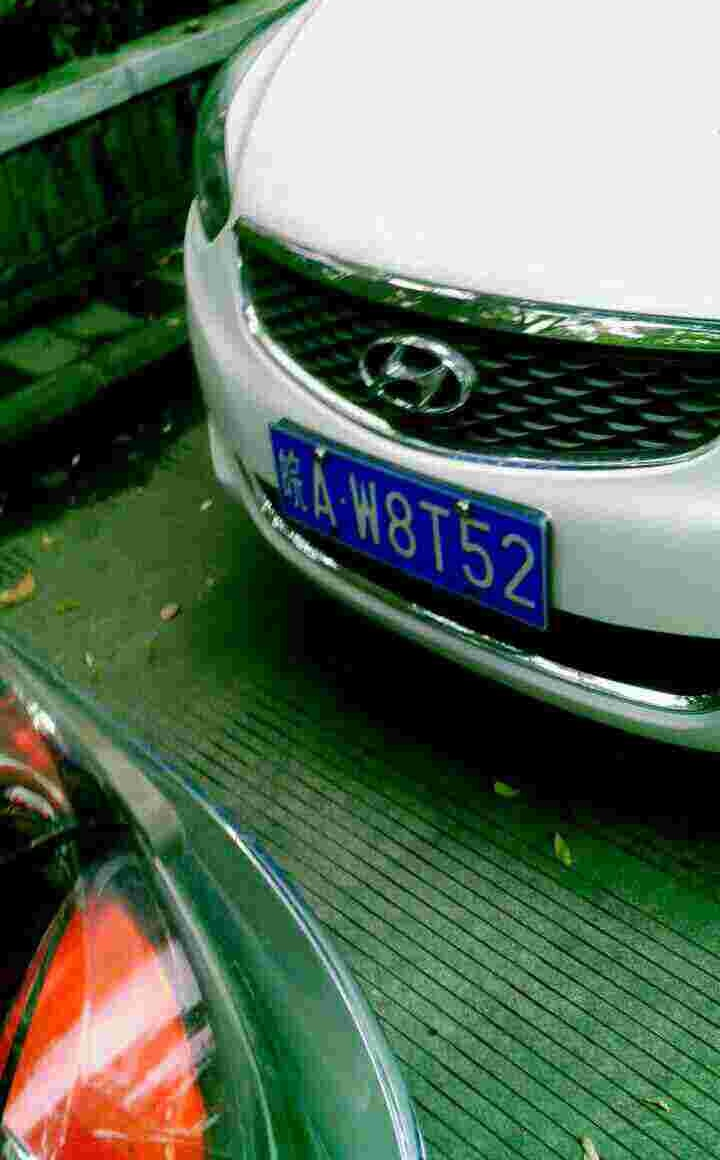license_plate: (255, 407, 545, 637)
